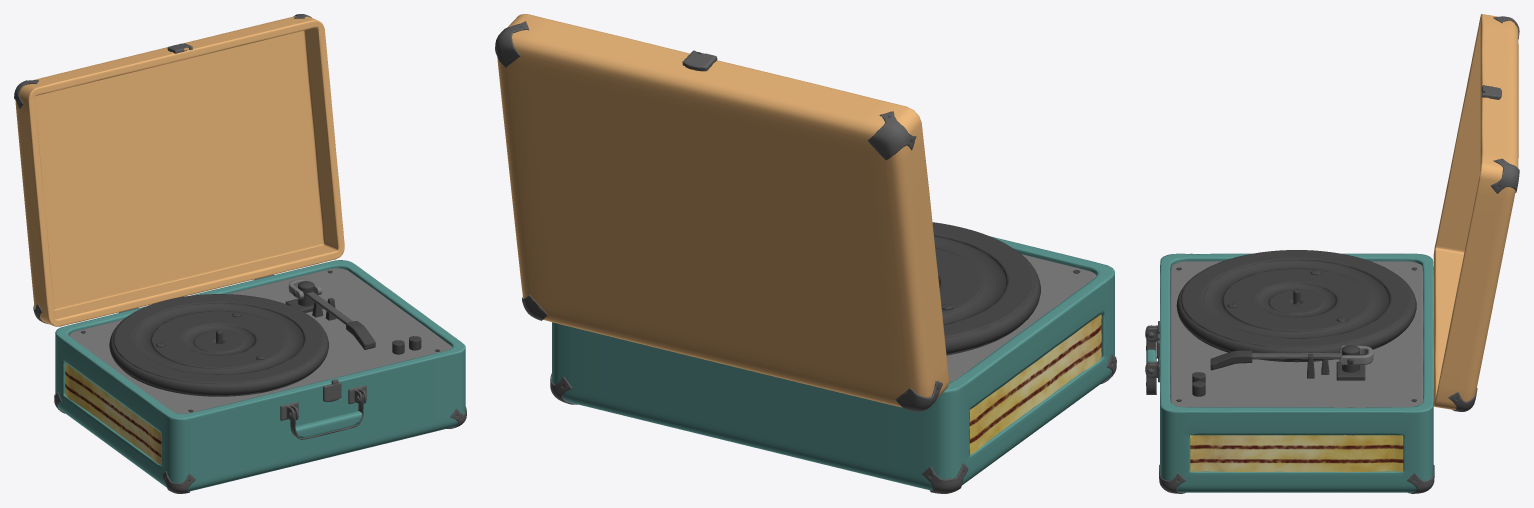
3 views of the same model, side by side, from view 1: azimuth 30°, elevation 25°; view 2: azimuth 150°, elevation 25°; view 3: azimuth 270°, elevation 25° (orthographic). The views are drawn at different scales.
Visible parts, largest first — view 1: Archmodels_114_31_18, Archmodels_114_31_10, Archmodels_114_31_22, Archmodels_114_31_28, Archmodels_114_31_11, Archmodels_114_31_02, SD_Archmodels_114_31_24; view 2: Archmodels_114_31_18, Archmodels_114_31_10, Archmodels_114_31_22, Archmodels_114_31_11, Archmodels_114_31_28, Archmodels_114_31_17, Archmodels_114_31_20, Archmodels_114_31_16, Archmodels_114_31_07; view 3: Archmodels_114_31_18, Archmodels_114_31_22, Archmodels_114_31_10, Archmodels_114_31_28, Archmodels_114_31_12, Archmodels_114_31_01, Archmodels_114_31_20, Archmodels_114_31_33, SD_Archmodels_114_31_24, SD_Archmodels_114_31_31.
Part boxes in pixels (bbox=[...]): Archmodels_114_31_18: bbox=[15, 16, 344, 326]; Archmodels_114_31_10: bbox=[55, 260, 465, 491]; Archmodels_114_31_22: bbox=[109, 294, 328, 396]; Archmodels_114_31_28: bbox=[69, 268, 452, 413]; Archmodels_114_31_11: bbox=[65, 363, 161, 464]; Archmodels_114_31_02: bbox=[295, 411, 362, 438]; SD_Archmodels_114_31_24: bbox=[280, 385, 366, 421]; Archmodels_114_31_18: bbox=[497, 14, 949, 407]; Archmodels_114_31_10: bbox=[552, 236, 1114, 490]; Archmodels_114_31_22: bbox=[932, 222, 1040, 355]; Archmodels_114_31_11: bbox=[969, 314, 1101, 454]; Archmodels_114_31_28: bbox=[946, 254, 1096, 382]; Archmodels_114_31_17: bbox=[868, 111, 916, 160]; Archmodels_114_31_20: bbox=[495, 21, 529, 67]; Archmodels_114_31_16: bbox=[895, 381, 942, 411]; Archmodels_114_31_07: bbox=[922, 462, 968, 493]; Archmodels_114_31_18: bbox=[1433, 14, 1518, 409]; Archmodels_114_31_22: bbox=[1176, 250, 1416, 362]; Archmodels_114_31_10: bbox=[1160, 253, 1433, 492]; Archmodels_114_31_28: bbox=[1170, 261, 1423, 435]; Archmodels_114_31_12: bbox=[1190, 435, 1403, 472]; Archmodels_114_31_01: bbox=[1252, 352, 1341, 359]; Archmodels_114_31_20: bbox=[1490, 158, 1519, 193]; Archmodels_114_31_33: bbox=[1210, 350, 1252, 370]; SD_Archmodels_114_31_24: bbox=[1145, 321, 1159, 382]; SD_Archmodels_114_31_31: bbox=[1339, 345, 1373, 365].
Size of the model in its own units: 35.85 by 34.94 by 35.51.
5 materials, 1 textured.
